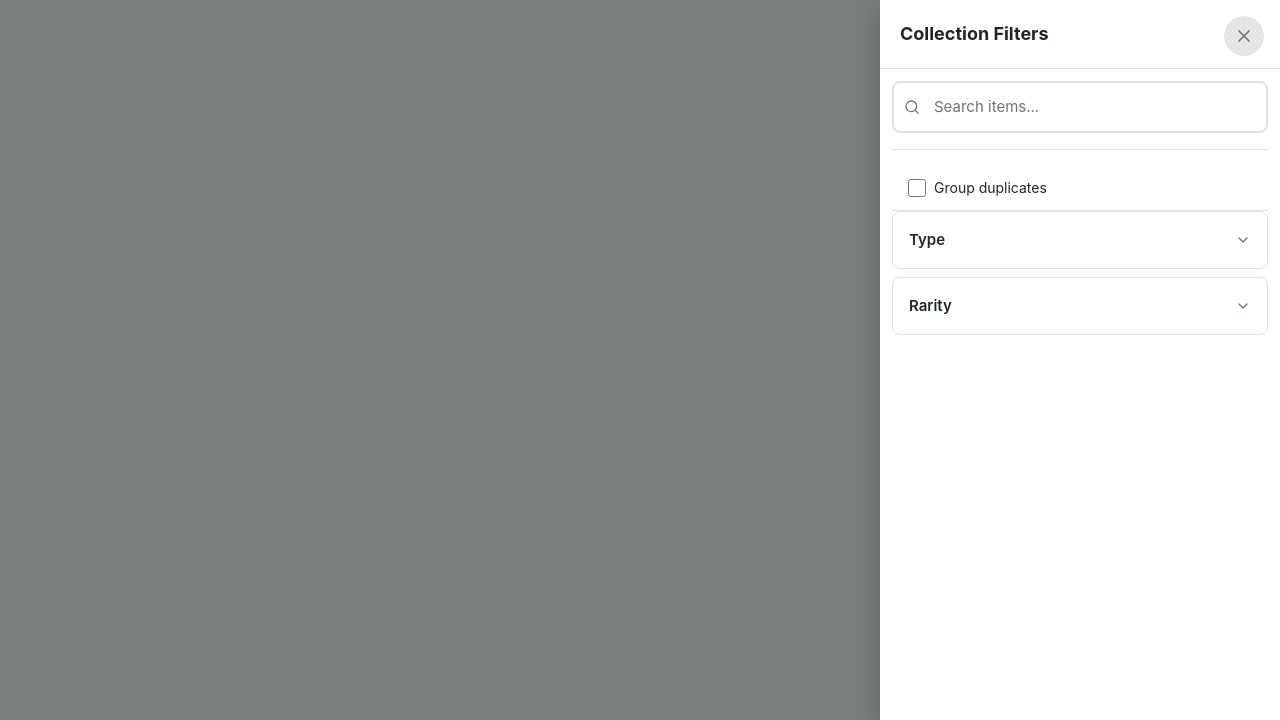
Test: CollectionFilterDrawer › displays filter values with counts when field is expanded
Wait for data to load, then expand type filter field
Click the text "Type" at (927, 240), box [909,228,945,252]
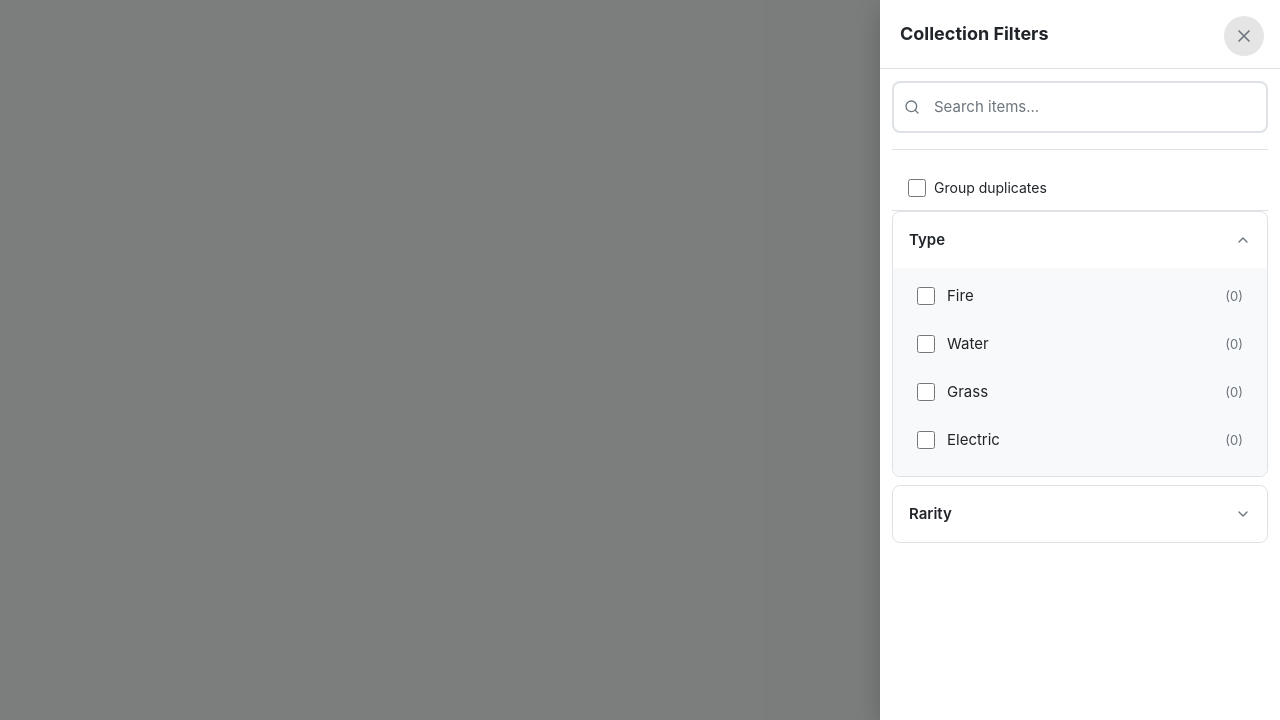
expect the text "Water" is shown: met, box [917,334,1243,353]
expect the text "Grass" is shown: met, box [917,382,1243,401]
expect the text "Electric" is shown: met, box [917,430,1243,449]
